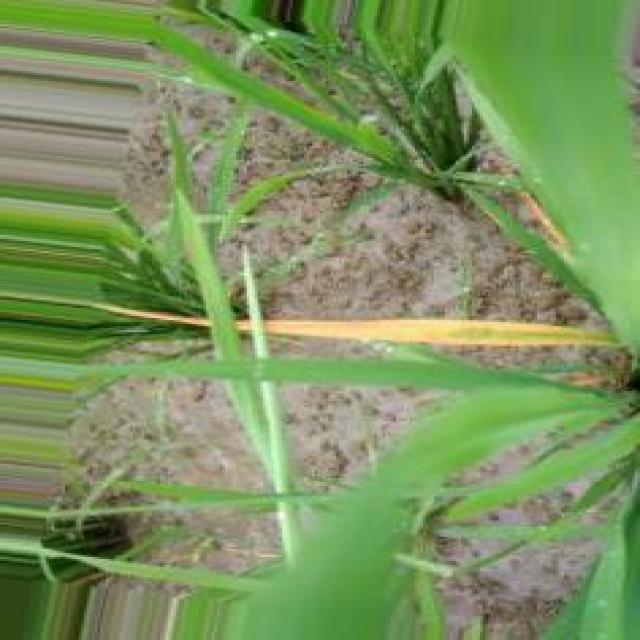Rice Tungro: (266, 321, 616, 347), (0, 294, 208, 327)
